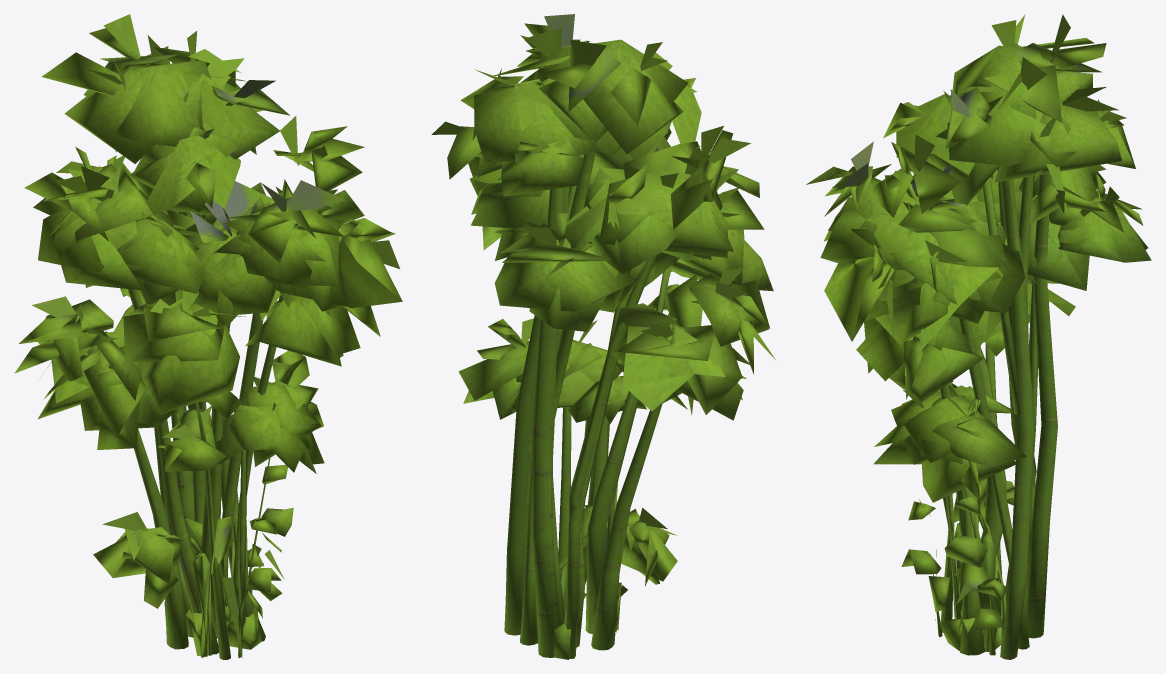
The model's file is Bamboo.fbx.
3 views of the same model, side by side, from view 1: azimuth 30°, elevation 25°; view 2: azimuth 150°, elevation 25°; view 3: azimuth 270°, elevation 25° (orthographic). The views are drawn at different scales.
Visible parts, largest first — view 1: Bamboo; view 2: Bamboo; view 3: Bamboo.
Part boxes in pixels (<box>): Bamboo: <box>14,14,402,659</box>; Bamboo: <box>431,14,775,659</box>; Bamboo: <box>806,14,1151,659</box>.
Size of the model in its own units: 5.14 by 9 by 4.8.
1 material, 1 textured.
